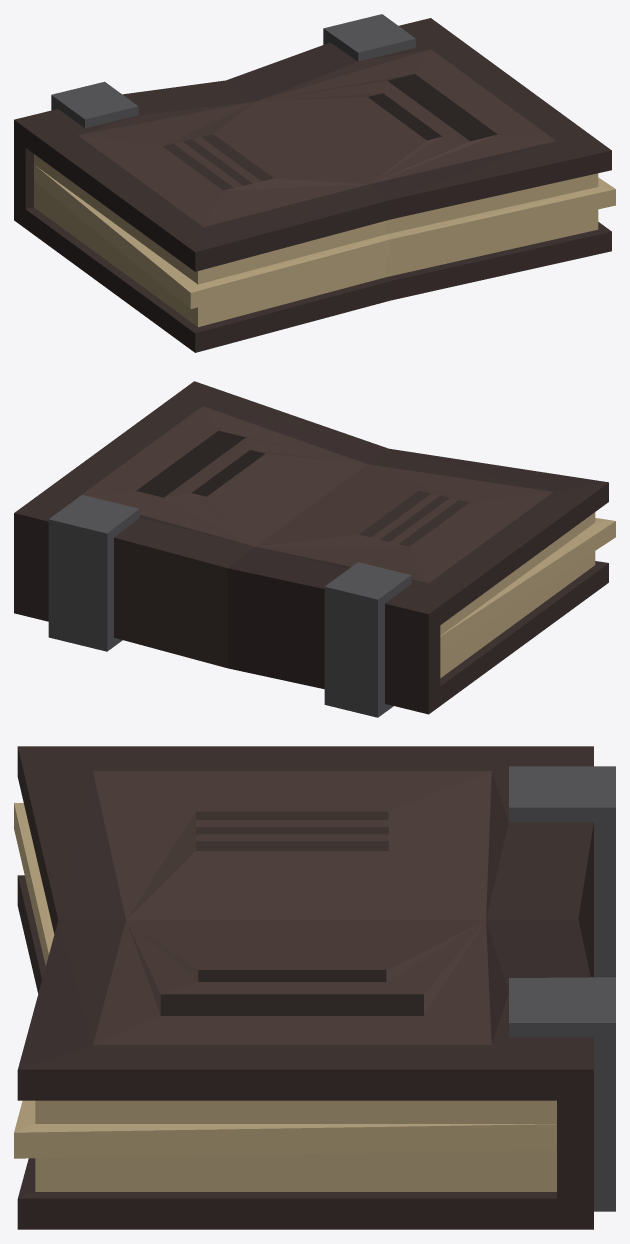
The model's file is book_a.glb.
3 views of the same model, one above another, from view 1: azimuth 30°, elevation 25°; view 2: azimuth 150°, elevation 25°; view 3: azimuth 270°, elevation 25° (orthographic). The views are drawn at different scales.
Visible parts, largest first — view 1: SM_Prop_Book_01; view 2: SM_Prop_Book_01; view 3: SM_Prop_Book_01.
Boxes of the visible parts, <box> form: SM_Prop_Book_01: <box>14,14,615,352</box>; SM_Prop_Book_01: <box>14,381,615,717</box>; SM_Prop_Book_01: <box>14,746,615,1229</box>.
Bounding box in the file's own units: 37.78 × 10.08 × 29.14.
Materials: 1 (1 with a texture image).
